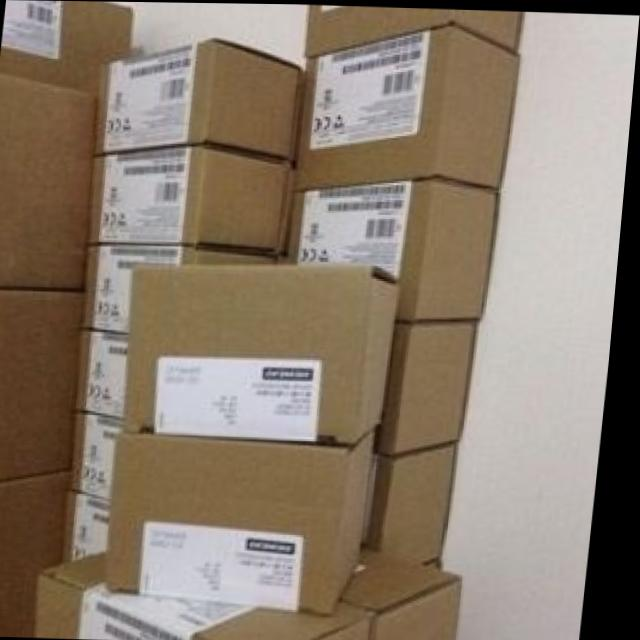box: (129, 260, 408, 443), (114, 429, 383, 613), (301, 23, 521, 191), (294, 176, 504, 320), (45, 551, 381, 640), (97, 35, 304, 159), (92, 144, 293, 253), (0, 71, 98, 290), (85, 244, 279, 332), (0, 288, 86, 483), (383, 321, 485, 455), (0, 469, 78, 637), (0, 0, 133, 91), (307, 4, 522, 57), (353, 546, 473, 640), (375, 440, 467, 561), (83, 328, 135, 417), (78, 412, 129, 500), (72, 488, 120, 561)
